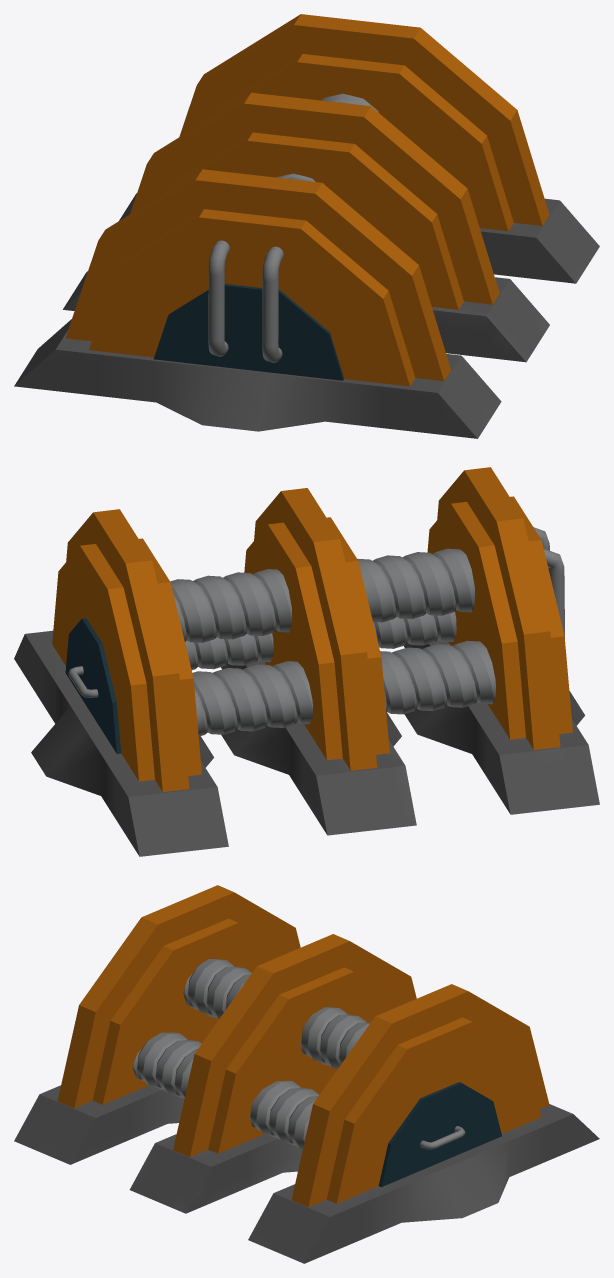
Rendered from Generator.fbx.
3 views of the same model, one above another, from view 1: azimuth 30°, elevation 25°; view 2: azimuth 150°, elevation 25°; view 3: azimuth 270°, elevation 25° (orthographic). The views are drawn at different scales.
Parts seen in each view (by area): view 1: Generator; view 2: Generator; view 3: Generator.
Boxes of the visible parts, x1,y1,x2,y2 form: Generator: (14,14,599,438); Generator: (14,467,599,856); Generator: (14,885,599,1263).
Bounding box in the file's own units: 233 × 233 × 81.47.
